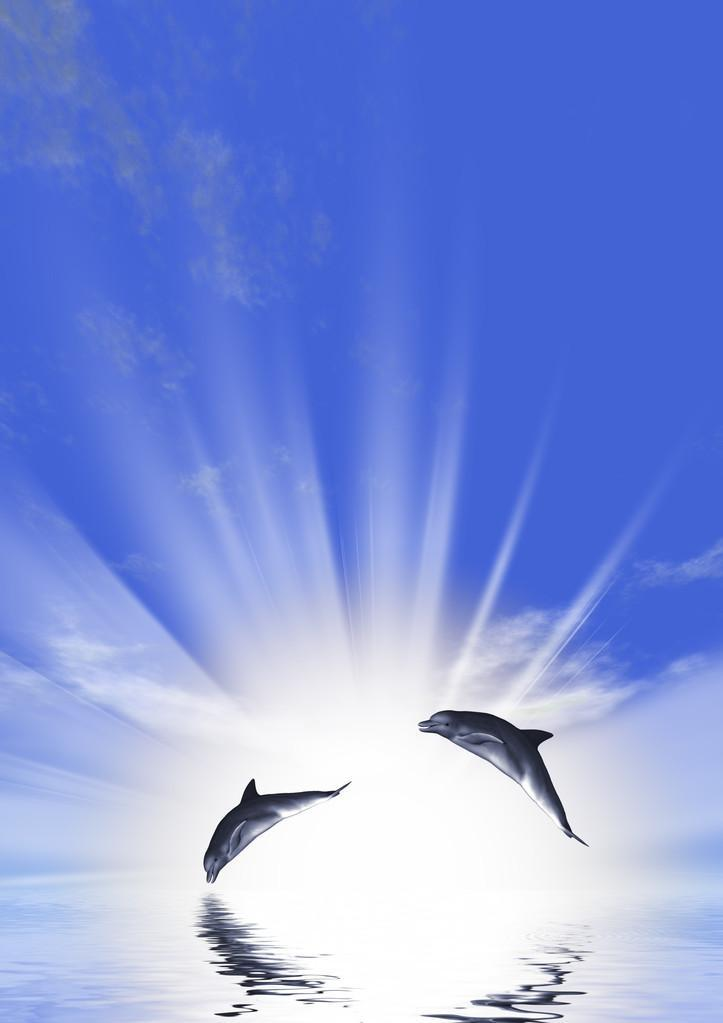fish: (418, 703, 591, 849), (203, 779, 354, 880)
